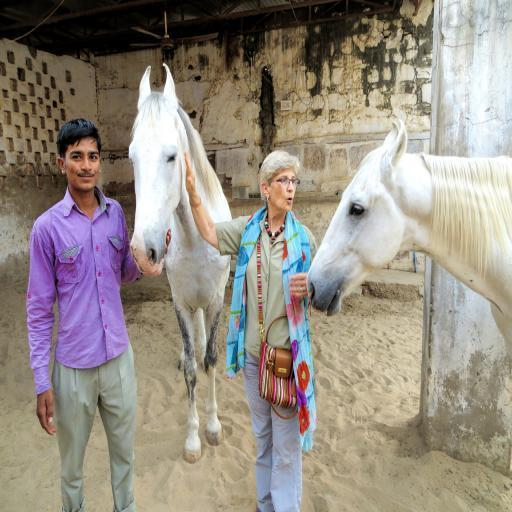horse: (306, 102, 512, 378), (128, 64, 234, 460)
